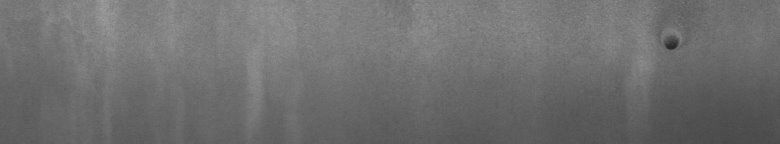fi: (657, 24, 687, 57)
